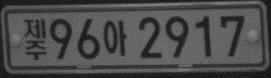1: (192, 14, 214, 57)
2: (137, 15, 163, 59)
6: (75, 17, 100, 60)
7: (219, 14, 246, 59)
9: (164, 15, 191, 59), (48, 18, 74, 61)
아: (102, 19, 128, 56)
제주_V: (22, 17, 49, 61)
